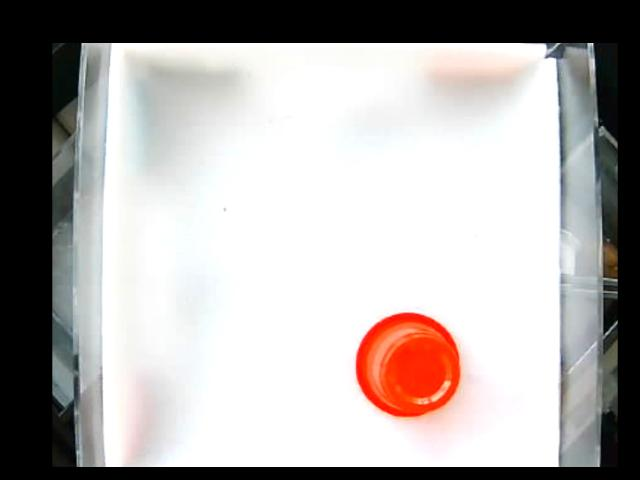Cup: (354, 308, 462, 418)
